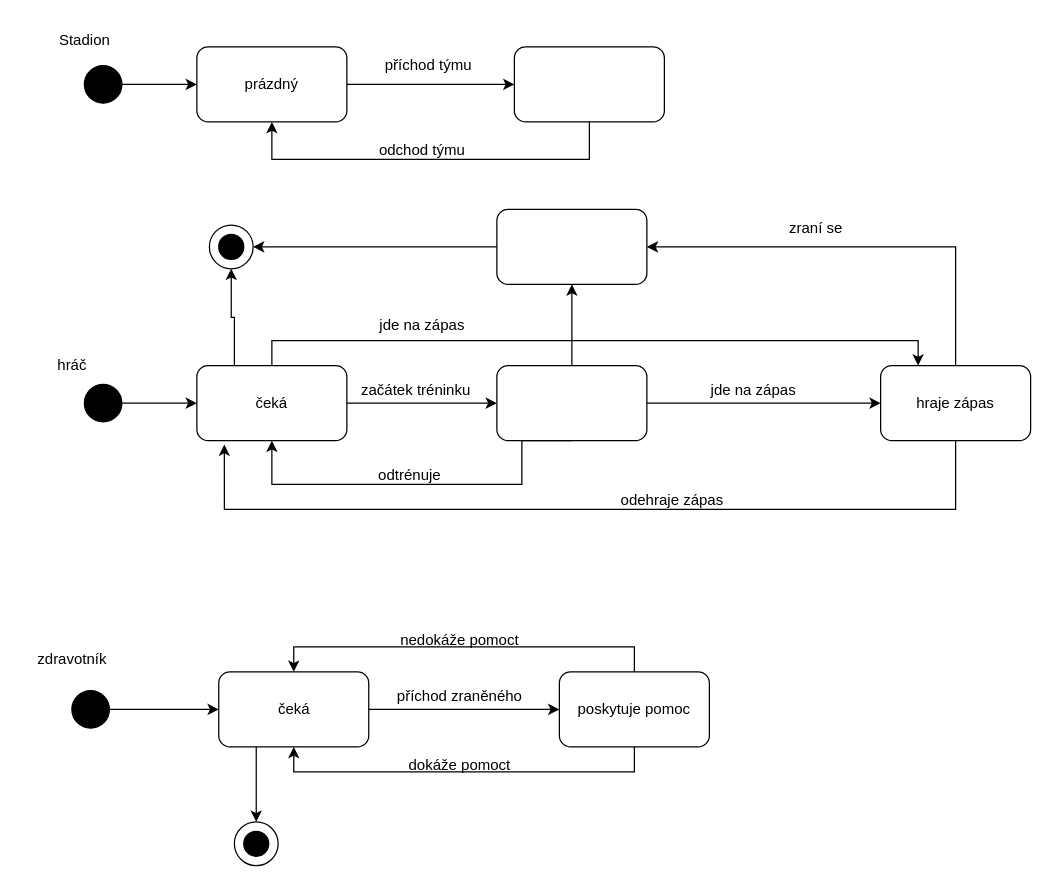
The diagram is 1053 pixels wide and 888 high, and some of its shapes have lost their labels. The shapes that lost their labels are listed below. From the top down, each one's box as (x1, y1, x2, y2) in pixels, then its label:
(513, 46, 664, 122): obsazený
(496, 208, 647, 284): je zraněný
(496, 364, 647, 441): trénuje
